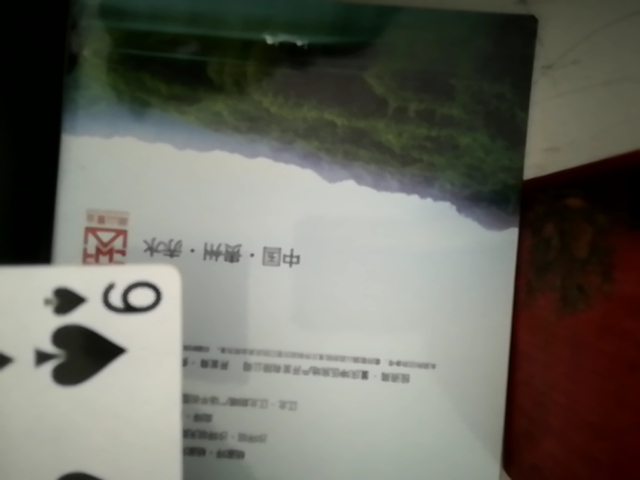ht 9: (4, 257, 197, 480)
